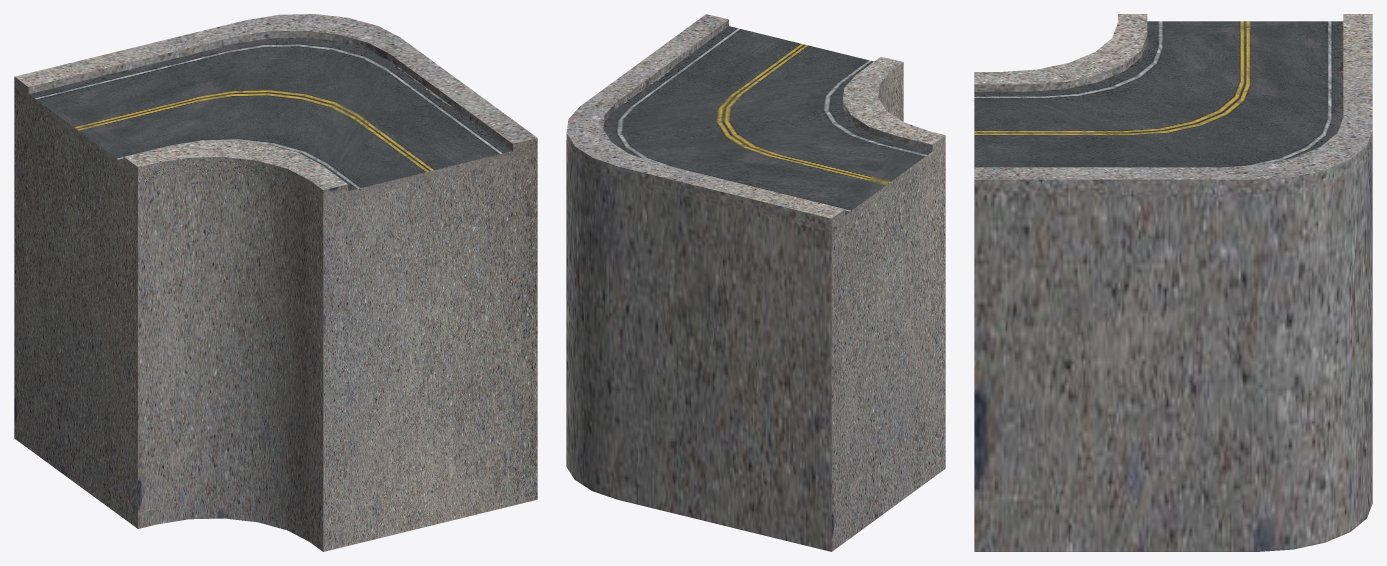
Rendered from rightTurn-small.fbx.
The picture shows the model from 3 angles, left to right: view 1: azimuth 30°, elevation 25°; view 2: azimuth 150°, elevation 25°; view 3: azimuth 270°, elevation 25°; orthographic projection. The views are drawn at different scales.
Parts seen in each view (by area): view 1: Plane.014; view 2: Plane.014; view 3: Plane.014.
Part boxes in pixels (x1,y1,x2,y2): Plane.014: [14, 14, 537, 551]; Plane.014: [566, 14, 945, 551]; Plane.014: [974, 14, 1372, 551].
Bounding box in the file's own units: 2000 × 2096 × 2033.
